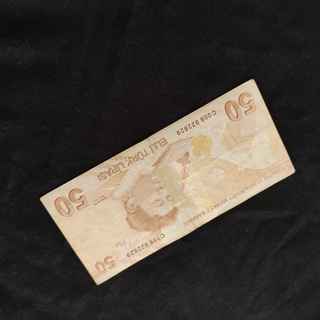50TLBack: (39, 77, 296, 285)
